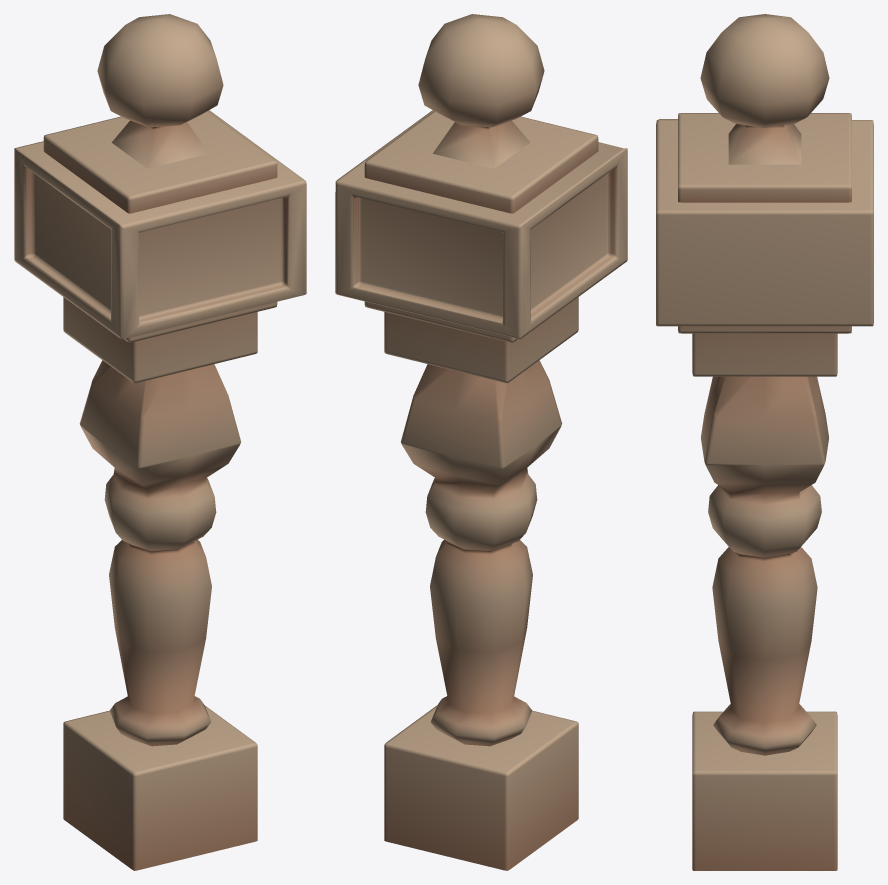
Rendered from Fence_endBeam_carved.fbx.
3 views of the same model, side by side, from view 1: azimuth 30°, elevation 25°; view 2: azimuth 150°, elevation 25°; view 3: azimuth 270°, elevation 25° (orthographic).
Visible parts, largest first — view 1: Fence_edge.002; view 2: Fence_edge.002; view 3: Fence_edge.002.
Boxes of the visible parts, x1,y1,x2,y2 form: Fence_edge.002: (14,14,306,870); Fence_edge.002: (335,14,627,870); Fence_edge.002: (656,14,873,870).
Size of the model in its own units: 60 by 249 by 60.
